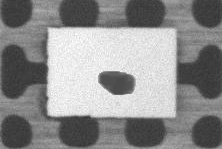DIE_INK: (137, 45, 212, 67)
